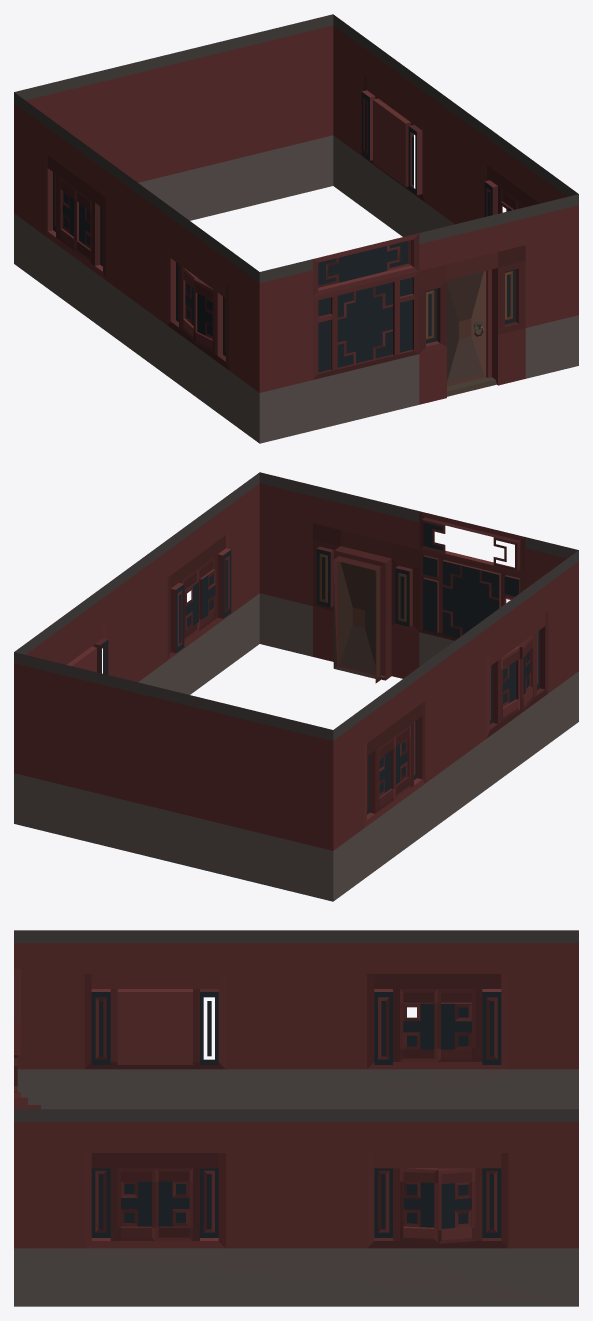
The model's file is BuildingA-Sm_A.fbx.
The picture shows the model from 3 angles, top to bottom: view 1: azimuth 30°, elevation 25°; view 2: azimuth 150°, elevation 25°; view 3: azimuth 270°, elevation 25°; orthographic projection. The views are drawn at different scales.
Visible parts, largest first — view 1: BuildingA-Sm_A; view 2: BuildingA-Sm_A; view 3: BuildingA-Sm_A.
Boxes of the visible parts, bbox=[...] form: BuildingA-Sm_A: bbox=[14, 14, 578, 443]; BuildingA-Sm_A: bbox=[14, 472, 578, 901]; BuildingA-Sm_A: bbox=[14, 930, 578, 1306].
Bounding box in the file's own units: 773 × 386 × 1000.
